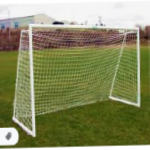goals: (12, 22, 142, 139)
